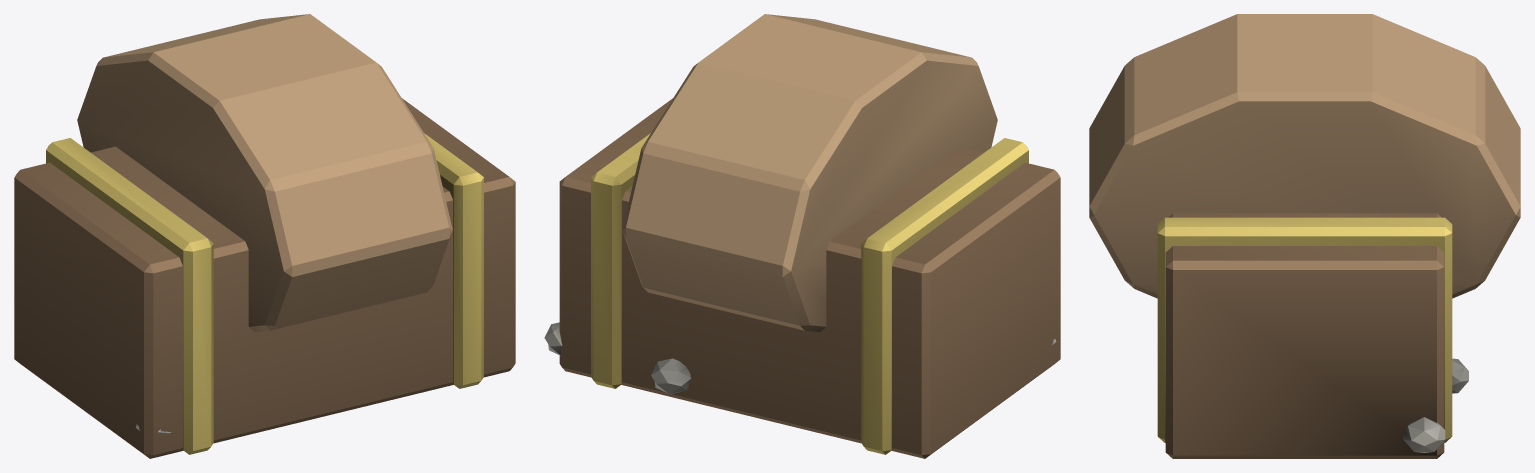
Rendered from SalvageCrate.fbx.
The picture shows the model from 3 angles, left to right: view 1: azimuth 30°, elevation 25°; view 2: azimuth 150°, elevation 25°; view 3: azimuth 270°, elevation 25°; orthographic projection.
Visible parts, largest first — view 1: Body; view 2: Body; view 3: Body.
Part boxes in pixels (x1,y1,x2,y2): Body: (14, 14, 515, 458); Body: (544, 14, 1060, 458); Body: (1089, 14, 1520, 458).
Size of the model in its own units: 1.16 by 0.8829 by 1.08.
